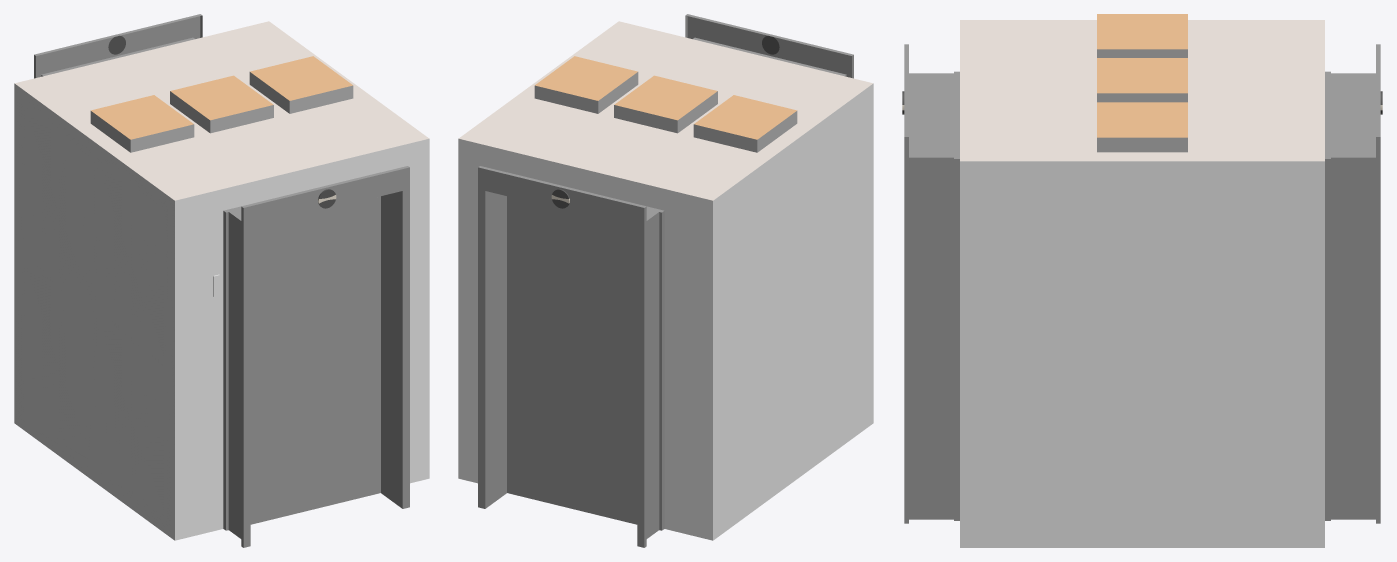
File: elevator.fbx
3 renders of one model, left to right at view 1: azimuth 30°, elevation 25°; view 2: azimuth 150°, elevation 25°; view 3: azimuth 270°, elevation 25°, orthographic. The views are drawn at different scales.
Visible parts, largest first — view 1: Layer0_001; view 2: Layer0_001; view 3: Layer0_001.
Boxes of the visible parts, x1=… form: Layer0_001: x1=14, y1=14, x2=429, y2=547; Layer0_001: x1=458, y1=14, x2=873, y2=547; Layer0_001: x1=902, y1=14, x2=1382, y2=547.
Bounding box in the file's own units: 70.34 × 93.19 × 101.
